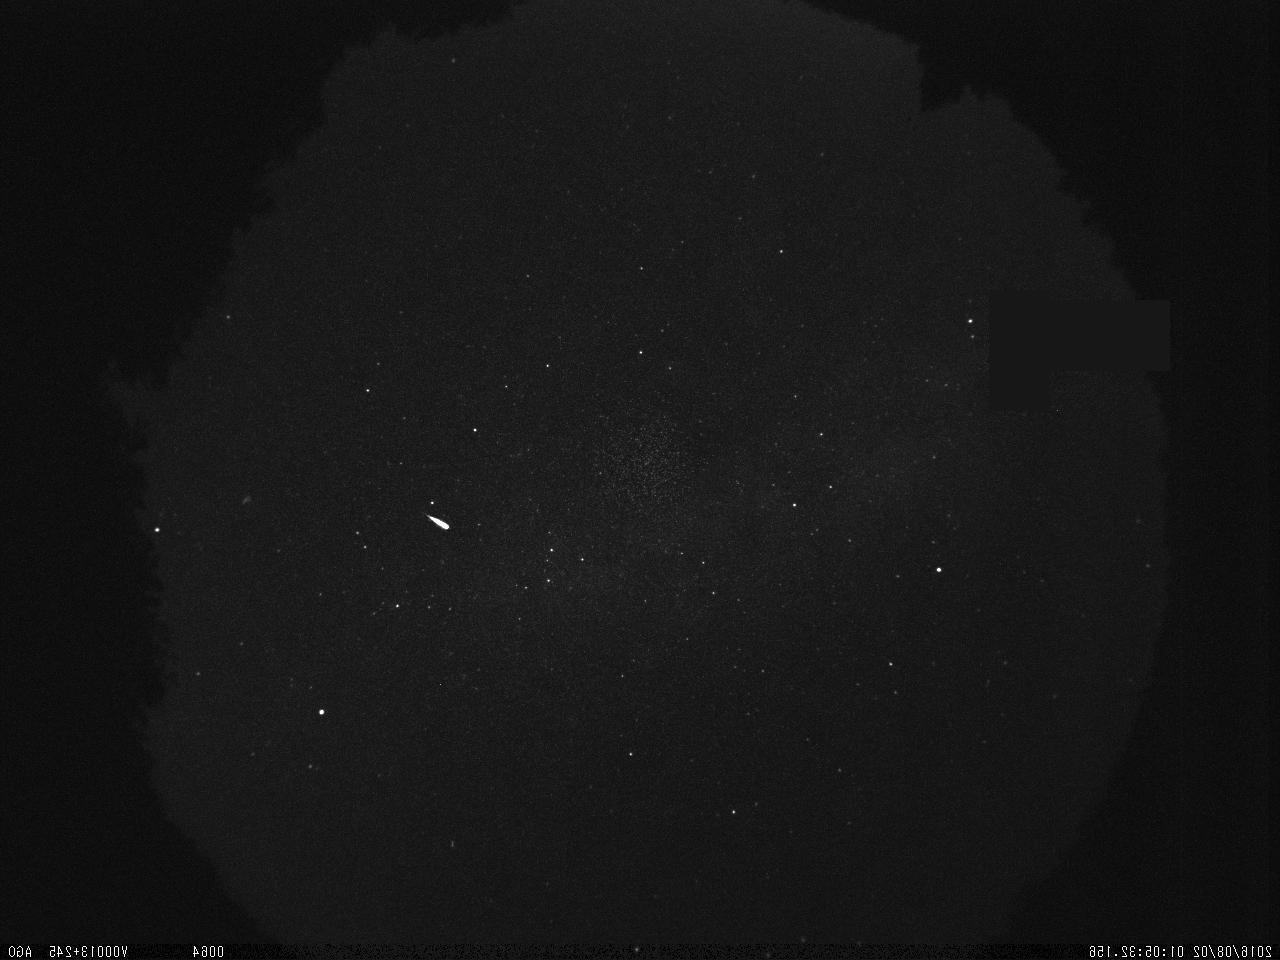meteor: (423, 506, 455, 541)
